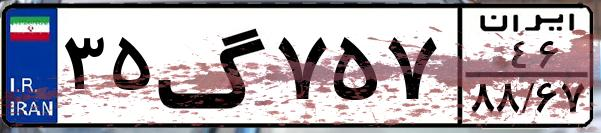3: (57, 26, 110, 100)
4: (508, 27, 537, 80)
5: (330, 28, 385, 110), (110, 28, 156, 98)
6: (537, 27, 568, 80), (535, 70, 560, 125)
7: (270, 28, 330, 110), (385, 28, 445, 110), (560, 70, 590, 125)
8: (470, 70, 495, 125), (495, 70, 520, 125)
گ: (156, 12, 270, 120)
